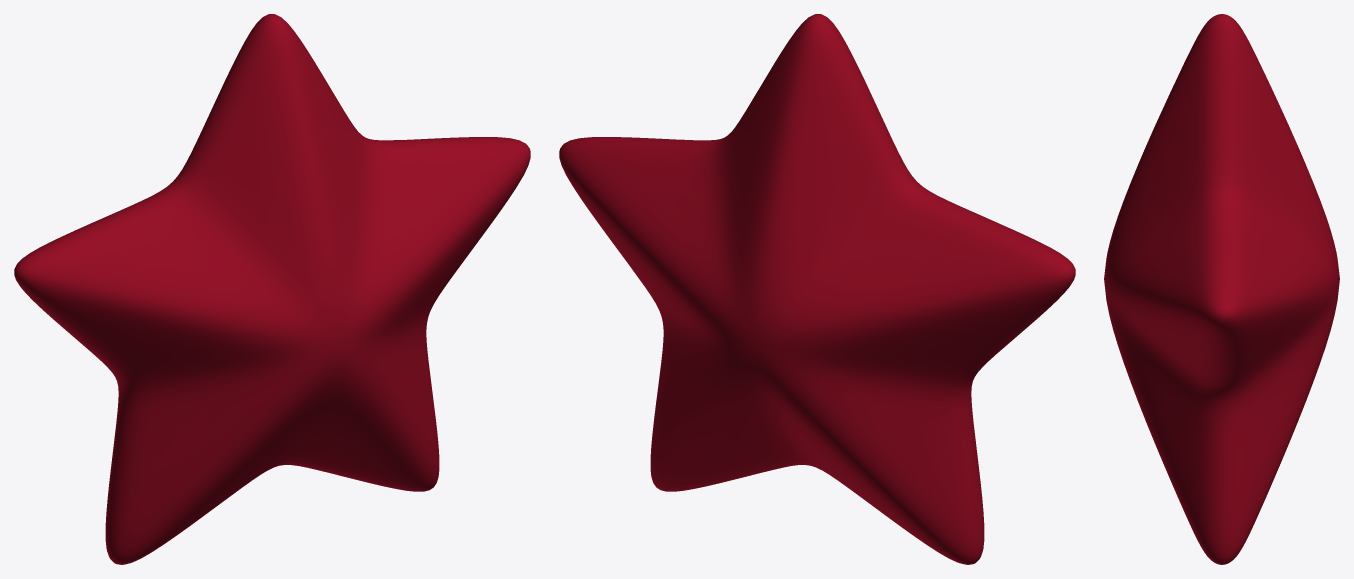
File: star.glb
3 renders of one model, left to right at view 1: azimuth 30°, elevation 25°; view 2: azimuth 150°, elevation 25°; view 3: azimuth 270°, elevation 25°, orthographic. The views are drawn at different scales.
Visible parts, largest first — view 1: Star; view 2: Star; view 3: Star.
Boxes of the visible parts, x1=… form: Star: x1=14, y1=14, x2=530, y2=564; Star: x1=559, y1=14, x2=1075, y2=564; Star: x1=1104, y1=14, x2=1339, y2=564.
Size of the model in its own units: 1.98 by 1.89 by 0.8409.
